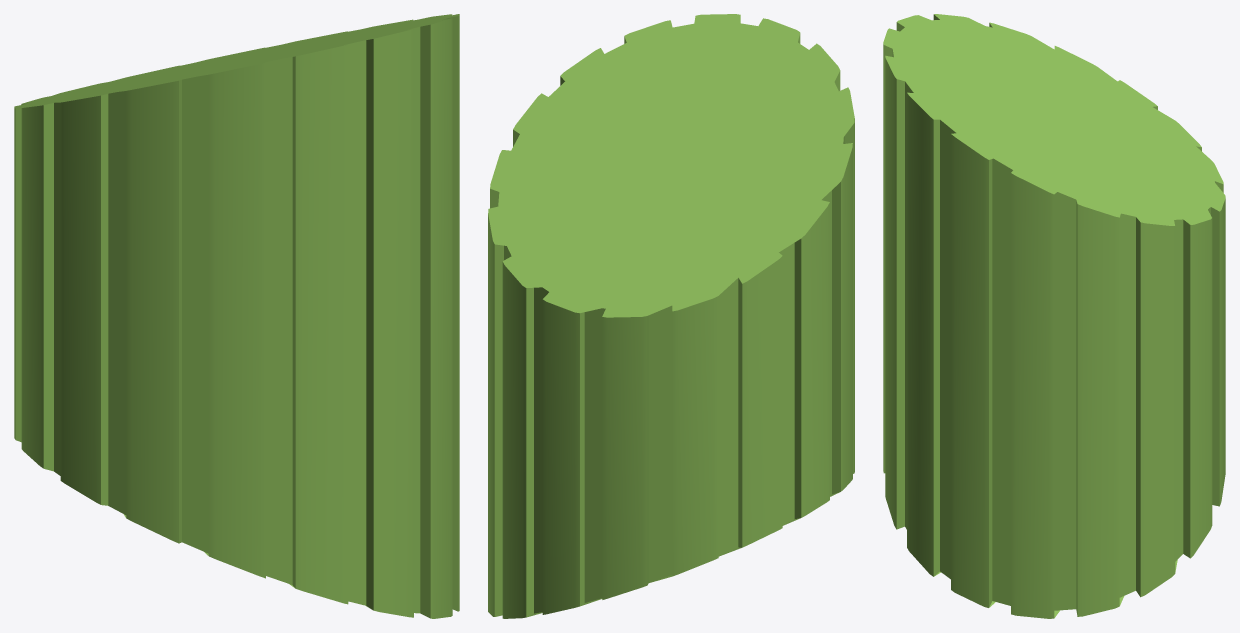
Rendered from ColumnSection1.obj.
3 views of the same model, side by side, from view 1: azimuth 30°, elevation 25°; view 2: azimuth 150°, elevation 25°; view 3: azimuth 270°, elevation 25° (orthographic). The views are drawn at different scales.
Parts seen in each view (by area): view 1: ColumnSection1; view 2: ColumnSection1; view 3: ColumnSection1.
Boxes of the visible parts, x1,y1,x2,y2 form: ColumnSection1: (14,14,459,618); ColumnSection1: (488,14,854,618); ColumnSection1: (883,14,1225,618).
Bounding box in the file's own units: 5.58 × 9.03 × 5.58.
